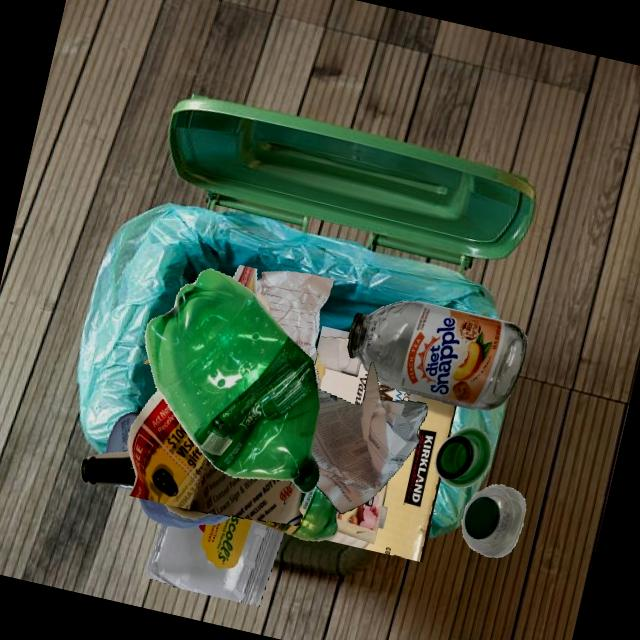biowaste: (143, 357, 149, 364)
cardboard: (323, 380, 456, 562), (314, 326, 367, 404)
glass: (347, 300, 527, 410), (434, 427, 491, 487), (80, 451, 135, 486), (164, 504, 210, 519)
paper: (127, 390, 302, 525), (311, 361, 427, 513), (256, 270, 334, 387), (256, 291, 270, 314)
plastic: (144, 268, 319, 493), (146, 516, 284, 607), (105, 453, 183, 517), (250, 485, 338, 541), (461, 484, 525, 557), (139, 498, 232, 528), (105, 412, 139, 453)
